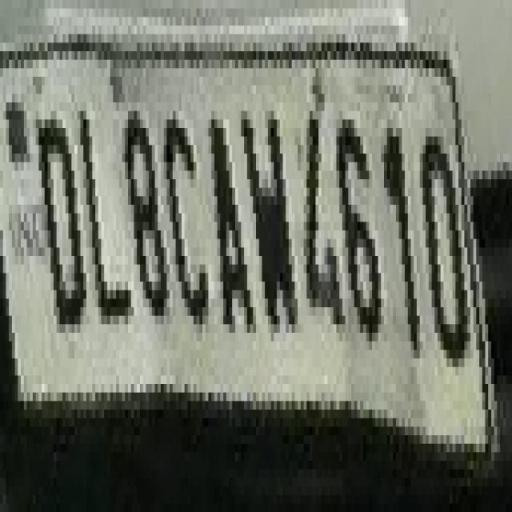number plate: (0, 17, 494, 384)
